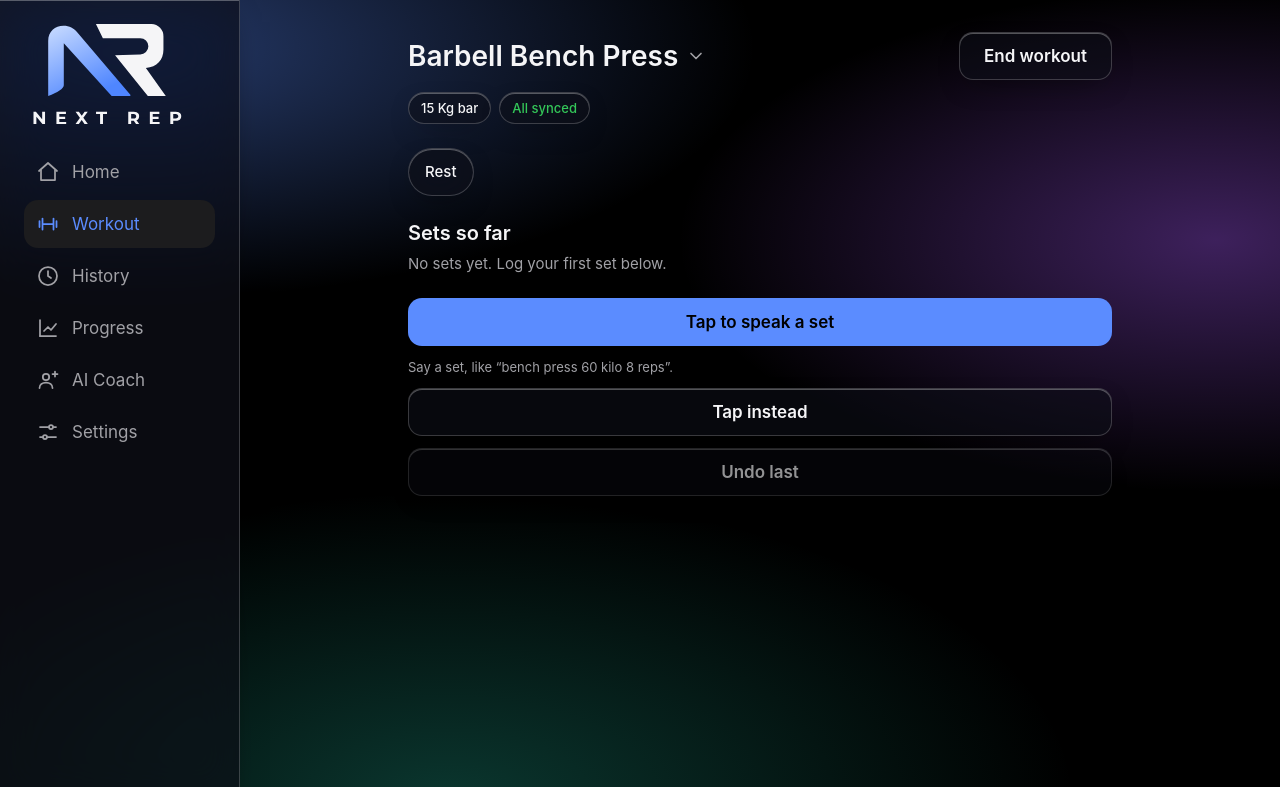
Test: voice logging on the workout page › asks before logging a weight below the bar
The width and height of the screenshot is (1280, 787).
Click the button "Tap to speak a set".
click(760, 322)  # box [408,298,1112,346]
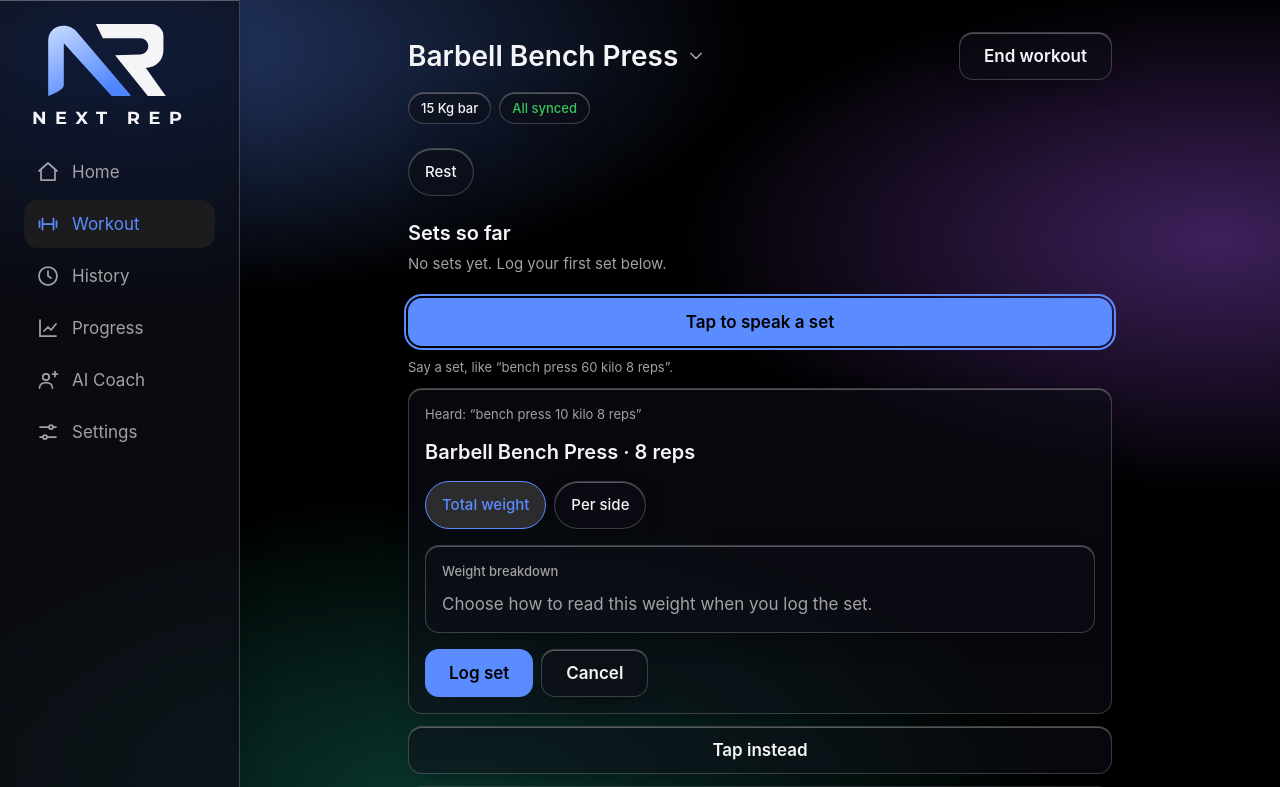
Click the button "Log set".
click(479, 673)  # box [425,649,533,697]
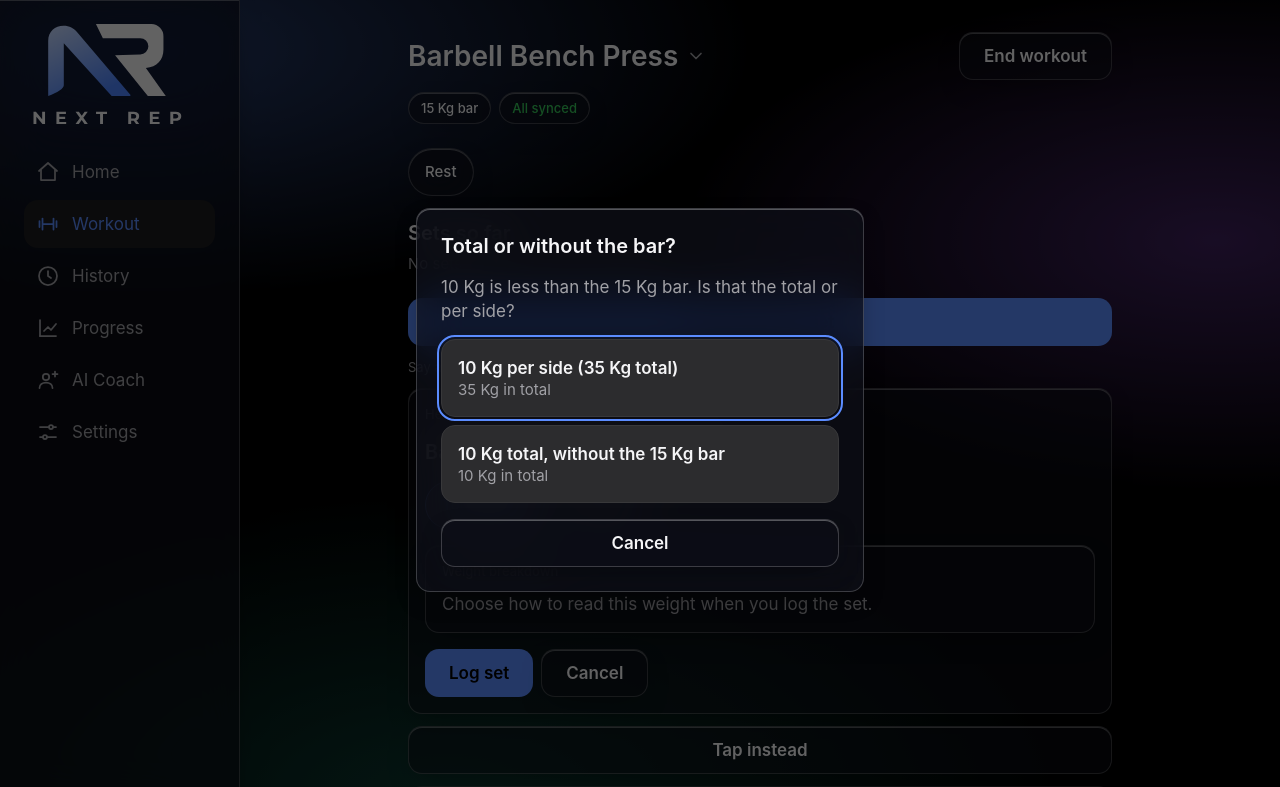
Result: the dialog is shown at [416,208,864,592]
